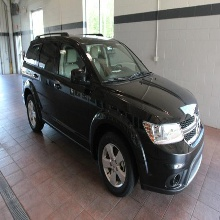no damage: (21, 32, 204, 197)
